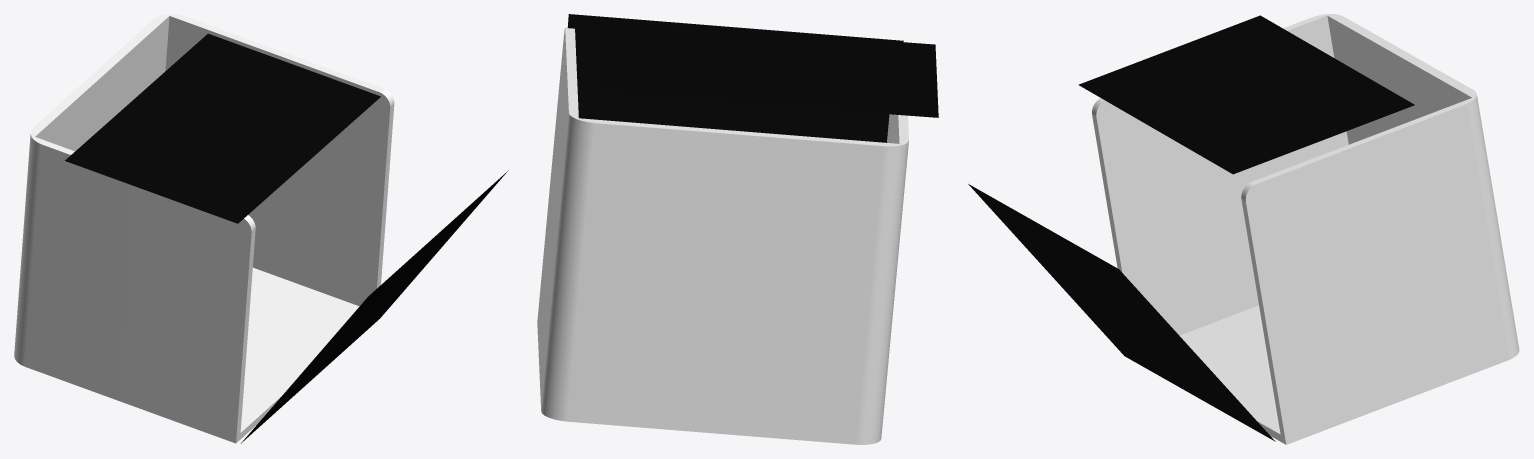
The picture shows the model from 3 angles, left to right: view 1: azimuth 30°, elevation 25°; view 2: azimuth 150°, elevation 25°; view 3: azimuth 270°, elevation 25°; orthographic projection. The views are drawn at different scales.
Visible parts, largest first — view 1: node_id54, mesh_id60, mesh_id56; view 2: node_id54, mesh_id60, mesh_id56; view 3: node_id54, mesh_id60, mesh_id56.
Boxes of the visible parts, bbox=[...] form: node_id54: bbox=[14, 14, 394, 443]; mesh_id60: bbox=[65, 33, 380, 223]; mesh_id56: bbox=[241, 170, 508, 443]; node_id54: bbox=[537, 28, 908, 444]; mesh_id60: bbox=[593, 19, 938, 117]; mesh_id56: bbox=[567, 14, 903, 142]; node_id54: bbox=[1092, 14, 1519, 444]; mesh_id60: bbox=[1078, 15, 1414, 174]; mesh_id56: bbox=[968, 184, 1275, 441].
Size of the model in its own units: 0.5054 by 0.368 by 0.5959.
Materials: 3 (3 with a texture image).
